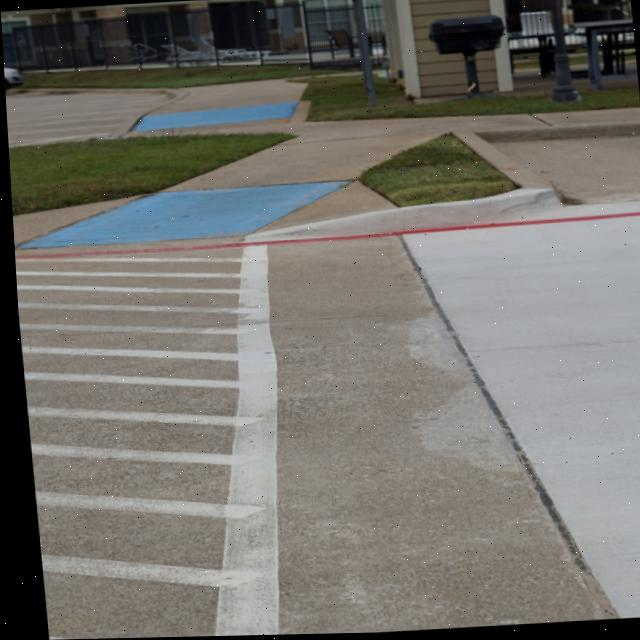Automobile: (3, 67, 21, 90)
Road: (12, 114, 640, 640), (4, 90, 166, 146)
Sidewalk: (10, 80, 640, 248)
